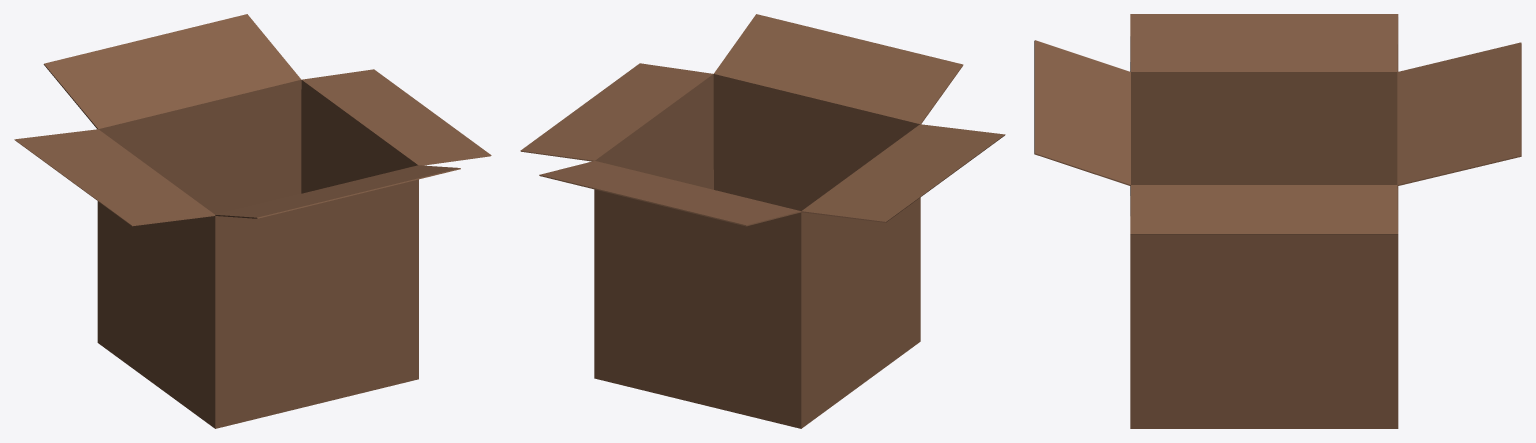
Rendered from caixanova.fbx.
The picture shows the model from 3 angles, left to right: view 1: azimuth 30°, elevation 25°; view 2: azimuth 150°, elevation 25°; view 3: azimuth 270°, elevation 25°; orthographic projection. The views are drawn at different scales.
Visible parts, largest first — view 1: CaixaA; view 2: CaixaA; view 3: CaixaA.
Boxes of the visible parts, x1,y1,x2,y2 form: CaixaA: (14, 14, 491, 428); CaixaA: (520, 14, 1005, 428); CaixaA: (1034, 14, 1521, 428).
Size of the model in its own units: 48.27 by 31.01 by 49.65.
